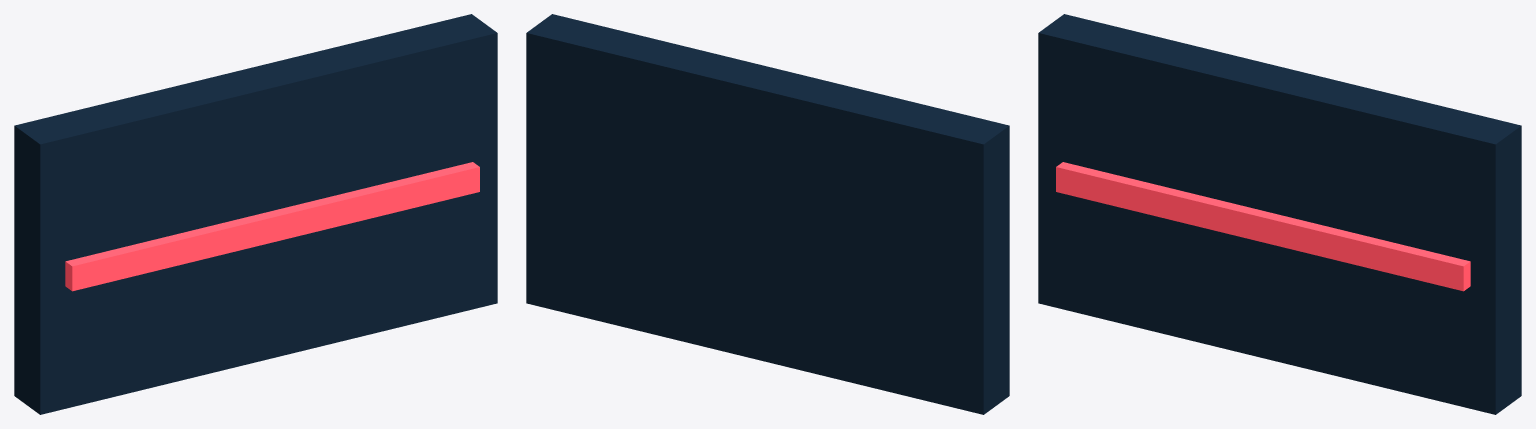
File: hazard-block.glb
The picture shows the model from 3 angles, left to right: view 1: azimuth 30°, elevation 25°; view 2: azimuth 150°, elevation 25°; view 3: azimuth 330°, elevation 25°; orthographic projection.
Visible parts, largest first — view 1: dark_static, hazard_static; view 2: dark_static; view 3: dark_static, hazard_static.
Part boxes in pixels (x1,y1,x2,y2): dark_static: (14,14,497,414); hazard_static: (65,162,479,291); dark_static: (526,14,1009,414); dark_static: (1038,14,1521,414); hazard_static: (1056,162,1470,291).
Bounding box in the file's own units: 920 × 520 × 115.
